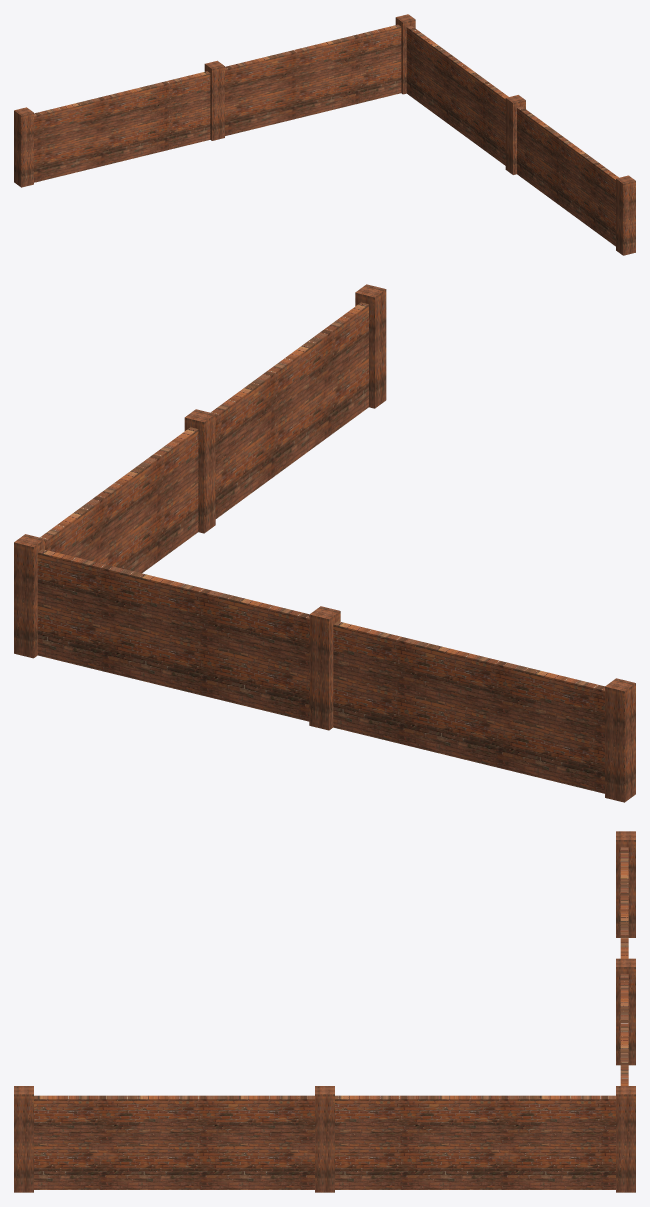
The model's file is klinker_mauer.obj.
3 renders of one model, top to bottom at view 1: azimuth 30°, elevation 25°; view 2: azimuth 150°, elevation 25°; view 3: azimuth 270°, elevation 25°, orthographic. The views are drawn at different scales.
Visible parts, largest first — view 1: Quader4, Quader3, Quader5, Quader2, Quader1, Quader6, Quader; view 2: Quader4, Quader3, Quader2, Quader1, Quader, Quader6, Quader5; view 3: Quader3, Quader5, Quader6, Quader, Quader4, Quader1, Quader2.
Boxes of the visible parts, x1,y1,x2,y2 form: Quader4: (34, 24, 401, 182); Quader3: (406, 26, 618, 246); Quader5: (616, 175, 635, 255); Quader2: (14, 107, 33, 187); Quader1: (204, 60, 224, 140); Quader6: (505, 95, 525, 174); Quader: (395, 14, 415, 94); Quader4: (37, 549, 604, 793); Quader3: (40, 302, 368, 573); Quader2: (605, 678, 635, 802); Quader1: (309, 606, 340, 730); Quader: (14, 534, 44, 658); Quader6: (184, 409, 215, 533); Quader5: (355, 284, 386, 408); Quader3: (34, 1095, 615, 1189); Quader5: (14, 1086, 33, 1192); Quader6: (315, 1086, 334, 1192); Quader: (616, 1086, 635, 1192); Quader4: (620, 847, 628, 1085); Quader1: (616, 958, 635, 1065); Quader2: (616, 831, 635, 937).
Size of the model in its own units: 15.5 by 2.7 by 15.5.
1 material, 1 textured.
